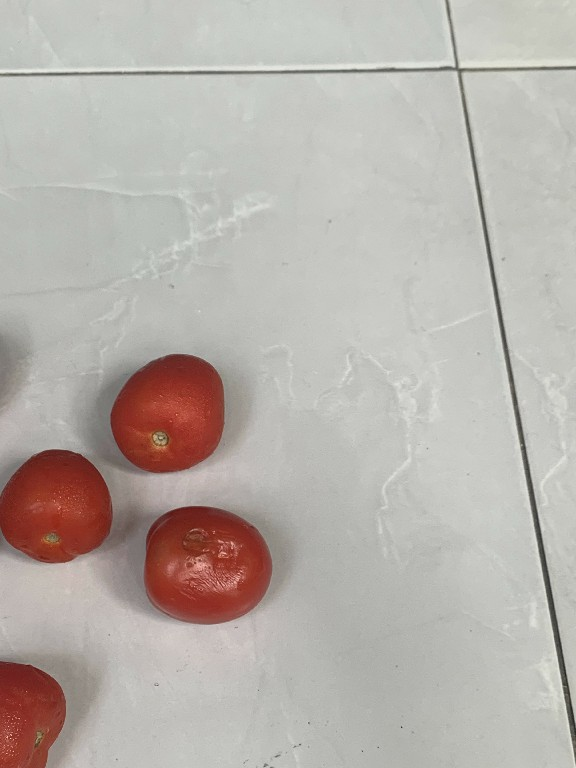NG: (141, 498, 269, 631)
OK: (102, 347, 233, 480), (0, 441, 111, 570)
